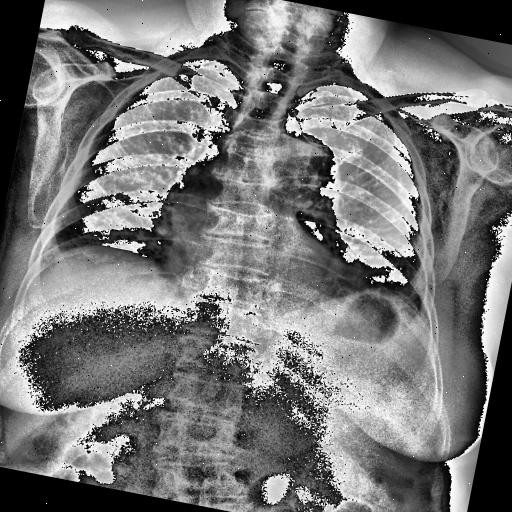0- Aortic enlargement: (268, 126, 350, 212), (254, 129, 342, 206), (262, 128, 348, 202)
13- Pulmonary fibrosis: (352, 258, 406, 292)
3- Cardiomegaly: (156, 232, 372, 313)
6- Infiltration: (320, 231, 438, 323)
7- Lung Opacity: (352, 258, 406, 292)
